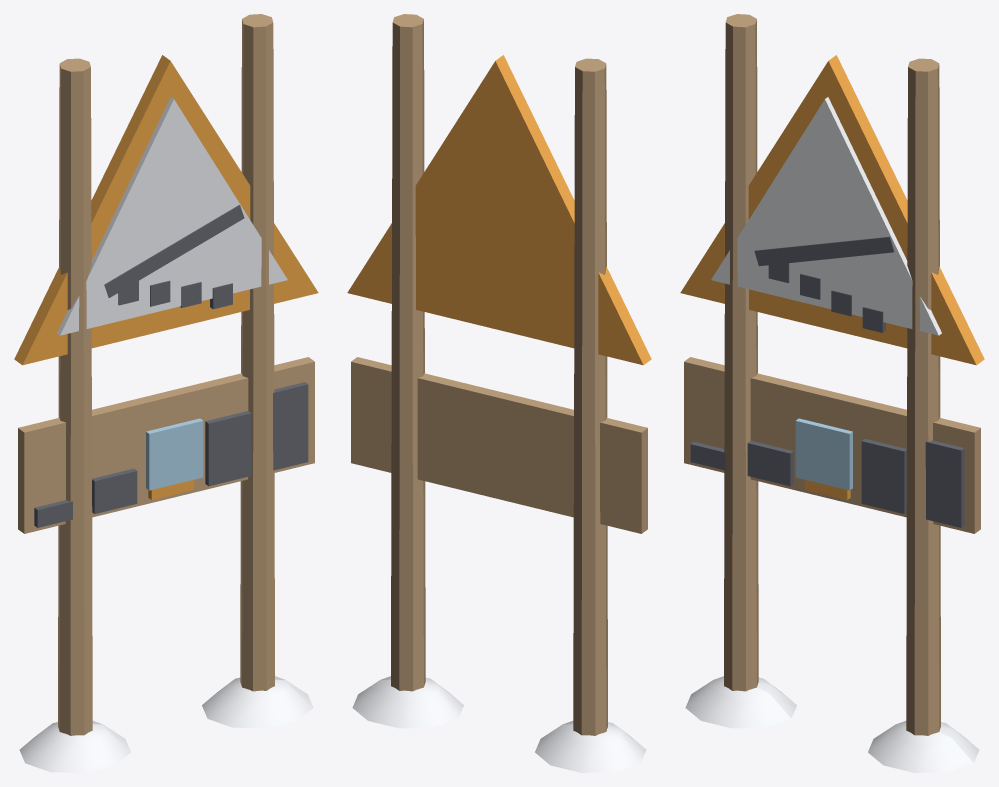
Rendered from backcountry-snowboarding-and-avalanche-safety-avalanch-910ea8b4__18959.glb.
3 views of the same model, side by side, from view 1: azimuth 30°, elevation 25°; view 2: azimuth 150°, elevation 25°; view 3: azimuth 330°, elevation 25° (orthographic).
Visible parts, largest first — view 1: avalanche-warning-sign; view 2: avalanche-warning-sign; view 3: avalanche-warning-sign.
Part boxes in pixels (<box>): avalanche-warning-sign: <box>14,14,318,772</box>; avalanche-warning-sign: <box>347,14,651,772</box>; avalanche-warning-sign: <box>680,14,984,772</box>.
Size of the model in its own units: 1.04 by 2.3 by 0.3014.
